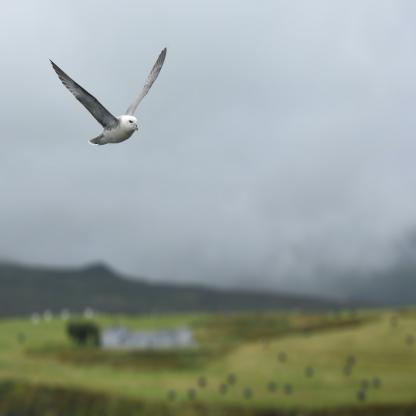bird: (50, 48, 166, 148)
